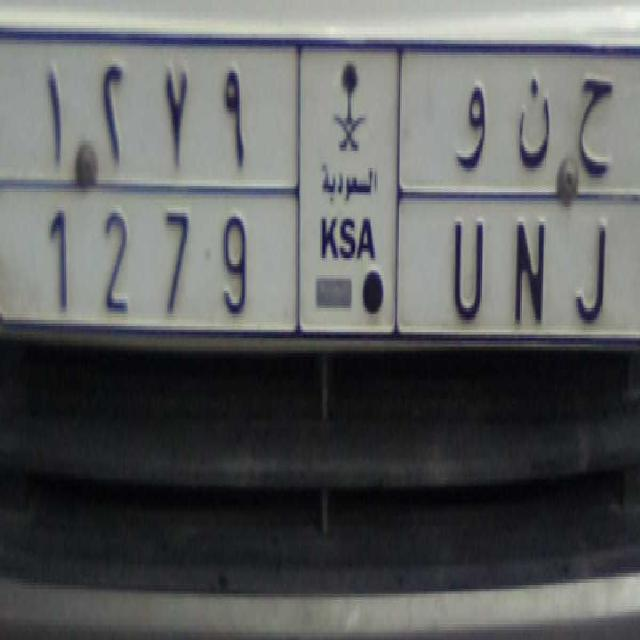license_plate: (0, 174, 640, 343)
